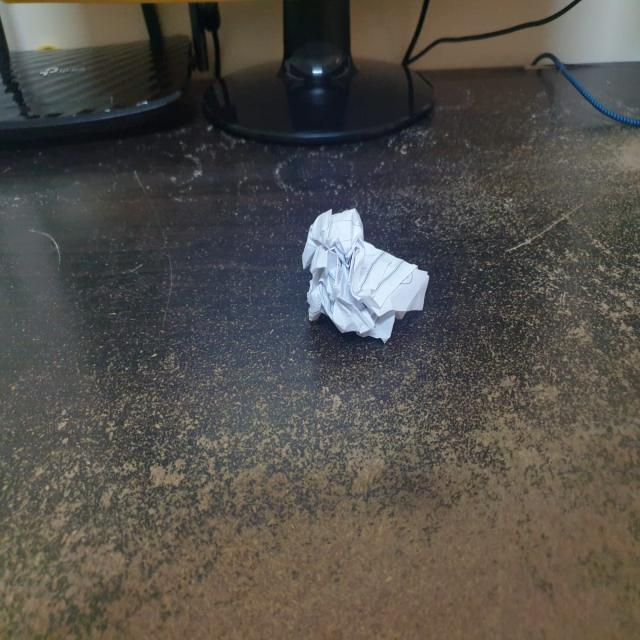Paper: (306, 206, 431, 341)
